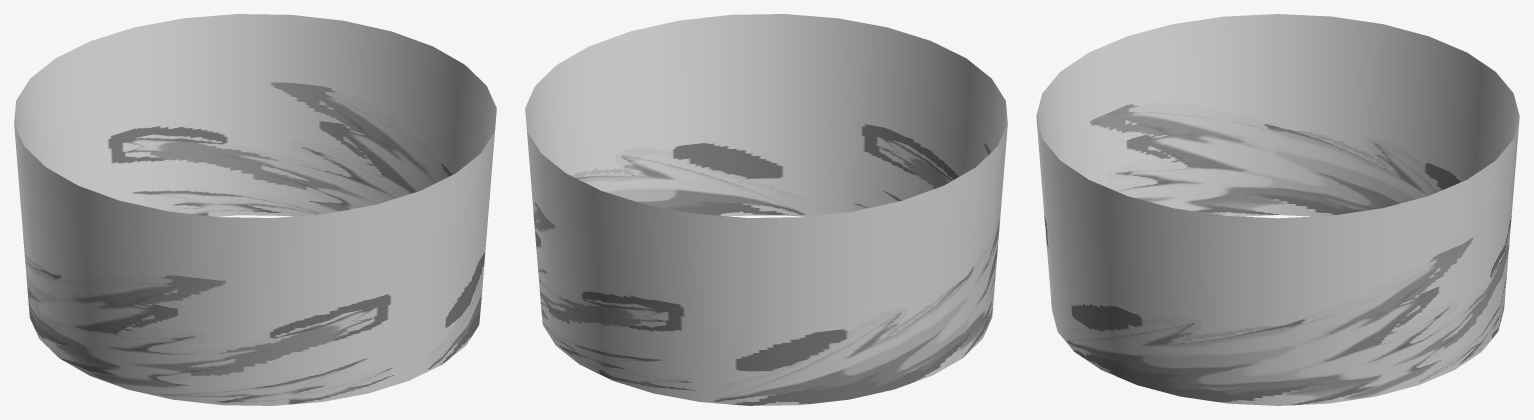
Rendered from Eff_Smoke_05.FBX.
The picture shows the model from 3 angles, left to right: view 1: azimuth 30°, elevation 25°; view 2: azimuth 150°, elevation 25°; view 3: azimuth 270°, elevation 25°; orthographic projection.
Parts seen in each view (by area): view 1: eff_smoke_05; view 2: eff_smoke_05; view 3: eff_smoke_05.
Boxes of the visible parts, x1,y1,x2,y2 form: eff_smoke_05: (14,14,496,405); eff_smoke_05: (525,14,1007,405); eff_smoke_05: (1036,14,1519,405).
Bounding box in the file's own units: 217 × 96.14 × 217.
1 material, 1 textured.
